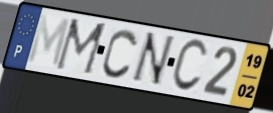2: (201, 46, 241, 100)
C: (168, 38, 209, 94), (100, 27, 140, 81)
M: (52, 16, 110, 78), (24, 13, 72, 71)
N: (128, 30, 177, 89)
